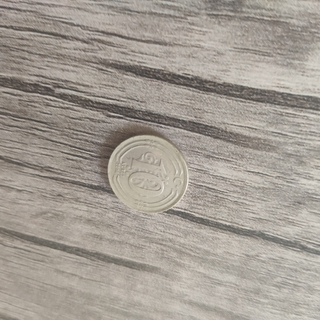10KURUS: (105, 132, 189, 215)
